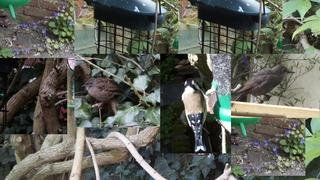dunnock: (81, 78, 136, 109)
goldfinch: (181, 78, 207, 152)
starling: (234, 64, 296, 104)
